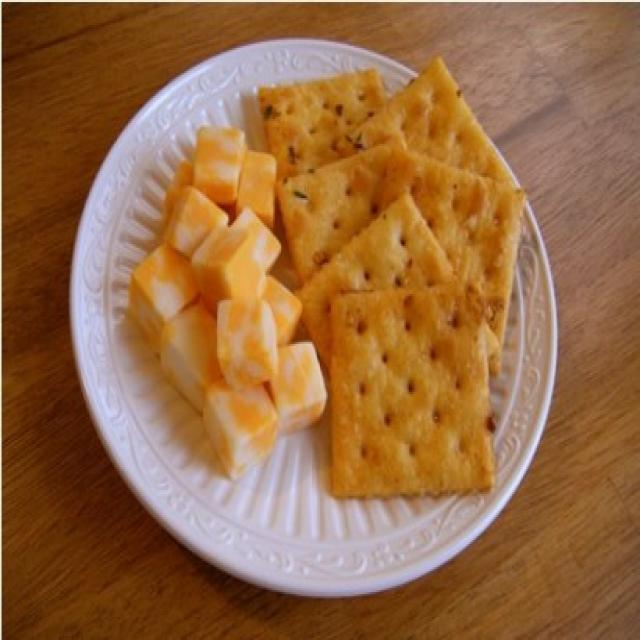Cracker: (323, 269, 507, 507)
